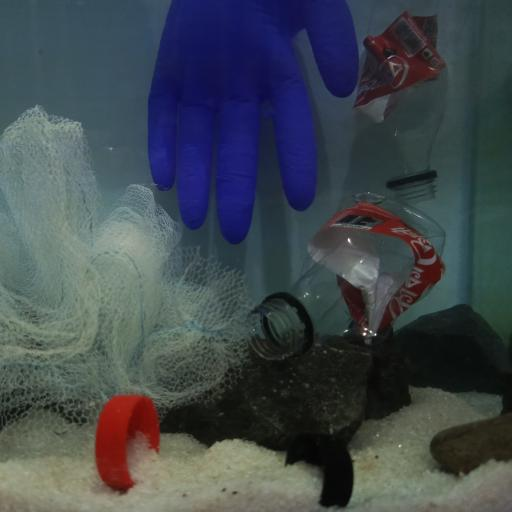bottle_cap: (95, 394, 160, 491), (286, 433, 352, 509)
glove: (148, 0, 358, 245)
net: (0, 106, 255, 436)
plastic_bottle: (245, 192, 447, 359), (352, 0, 449, 205)
